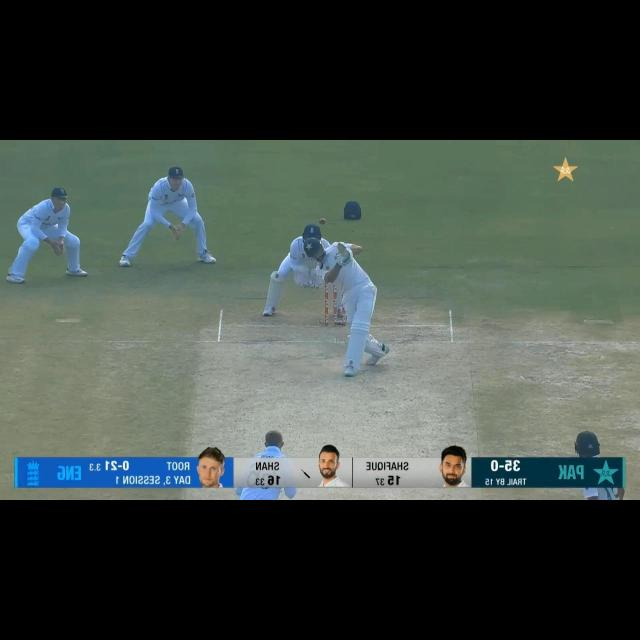bat: (334, 241, 348, 258)
toe: (337, 240, 348, 250)
